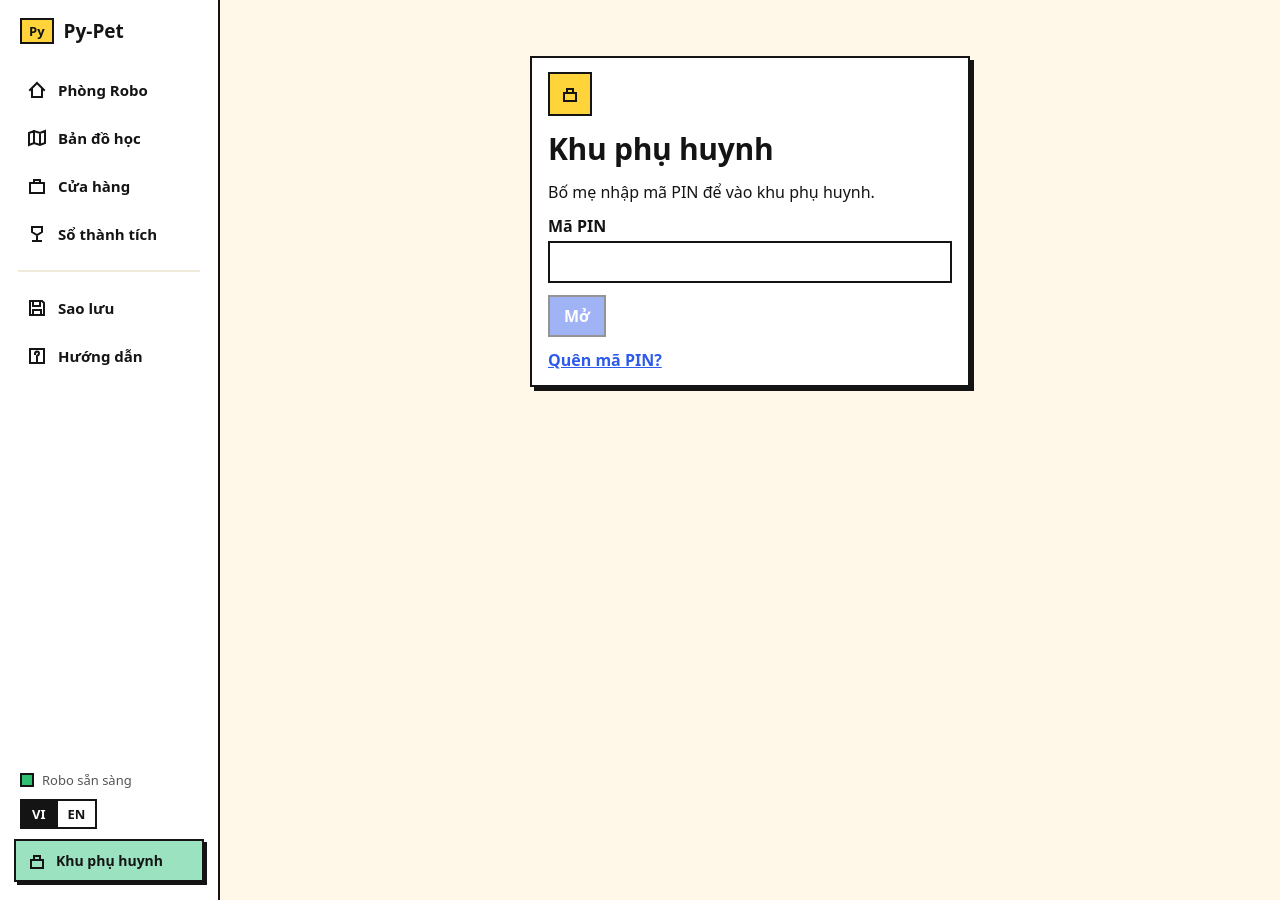
Test: ParentScreen gate › a forgotten PIN is reset, and the area then shows when
Click the button "Quên mã PIN?": (605, 360) [548,349,662,371]
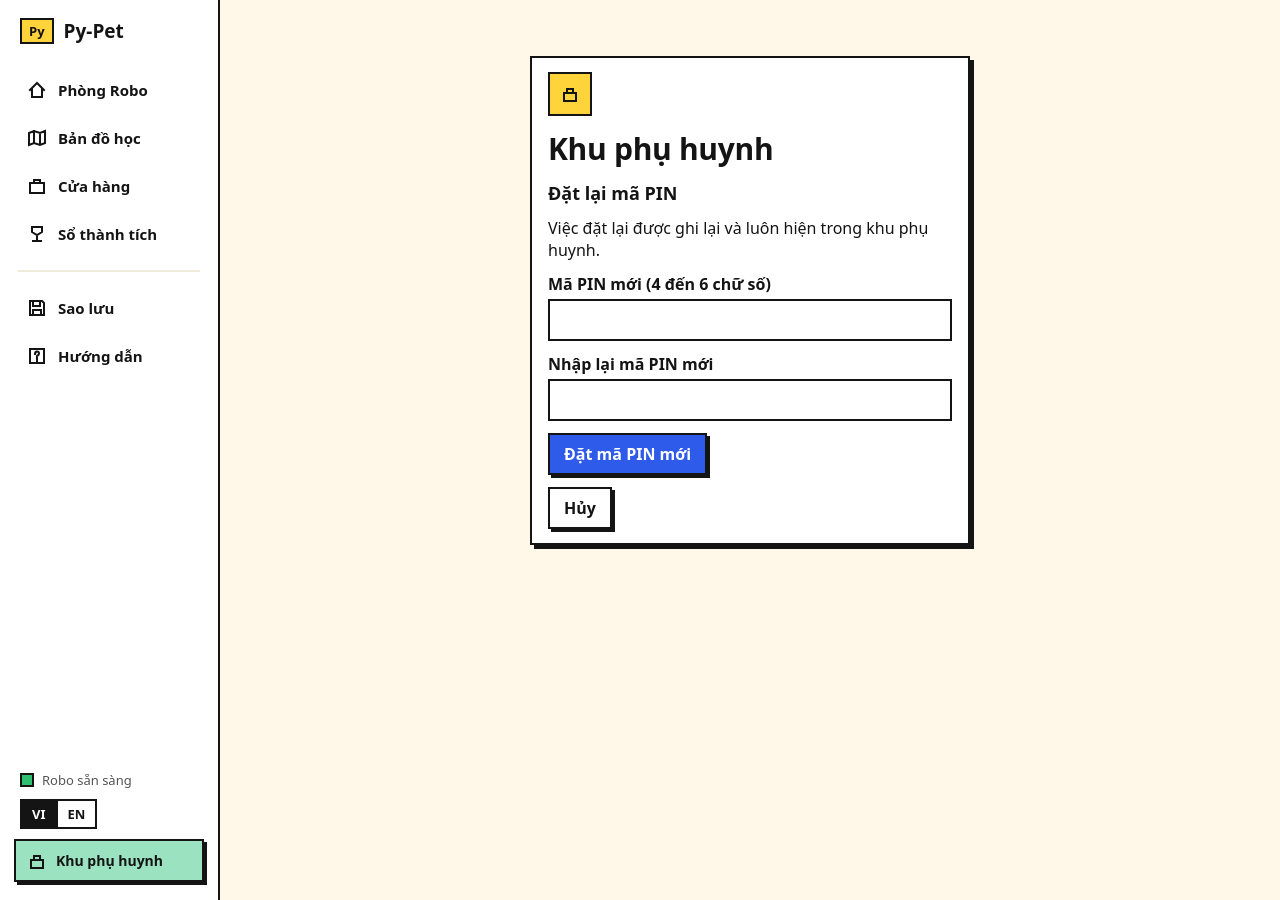
In the password field labelled "Mã PIN mới (4 đến 6 chữ số)": (750, 320) [548,299,952,341], type "12"
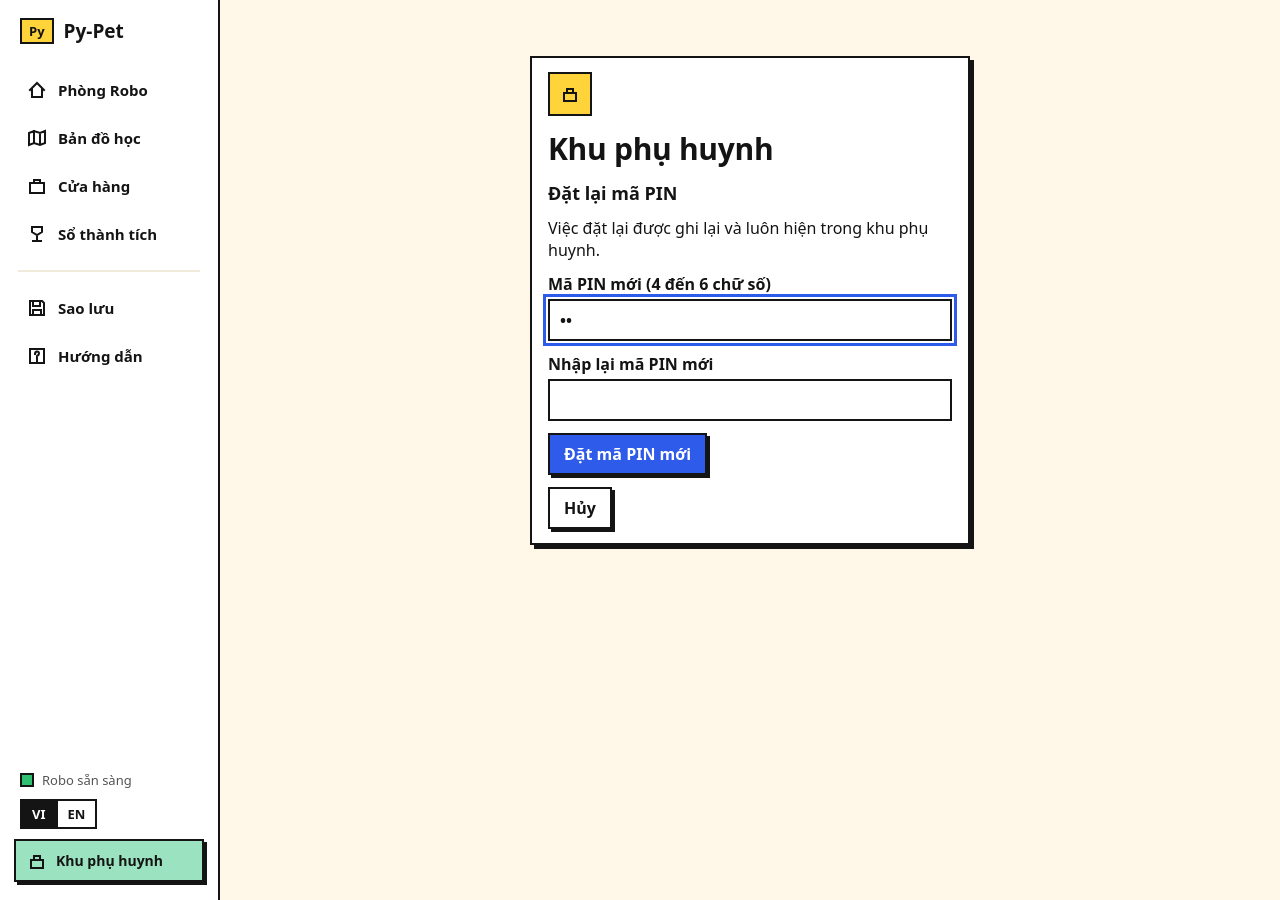
Click the button "Đặt mã PIN mới": (628, 454) [548,433,707,475]
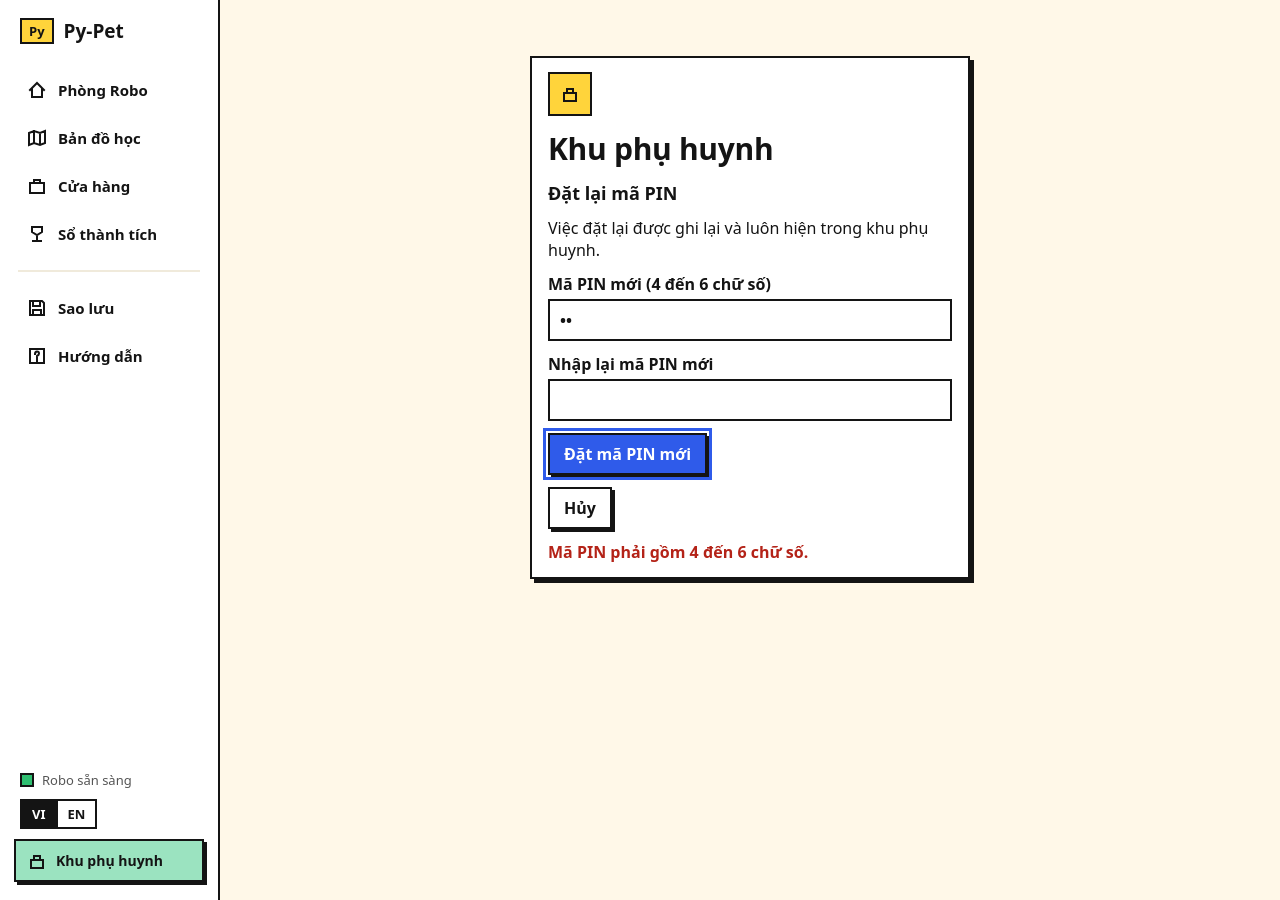
Result: the message reads "Mã PIN phải gồm 4 đến 6 chữ số." at [548,541,808,563]
In the password field labelled "Mã PIN mới (4 đến 6 chữ số)": (750, 320) [548,299,952,341], type "34"
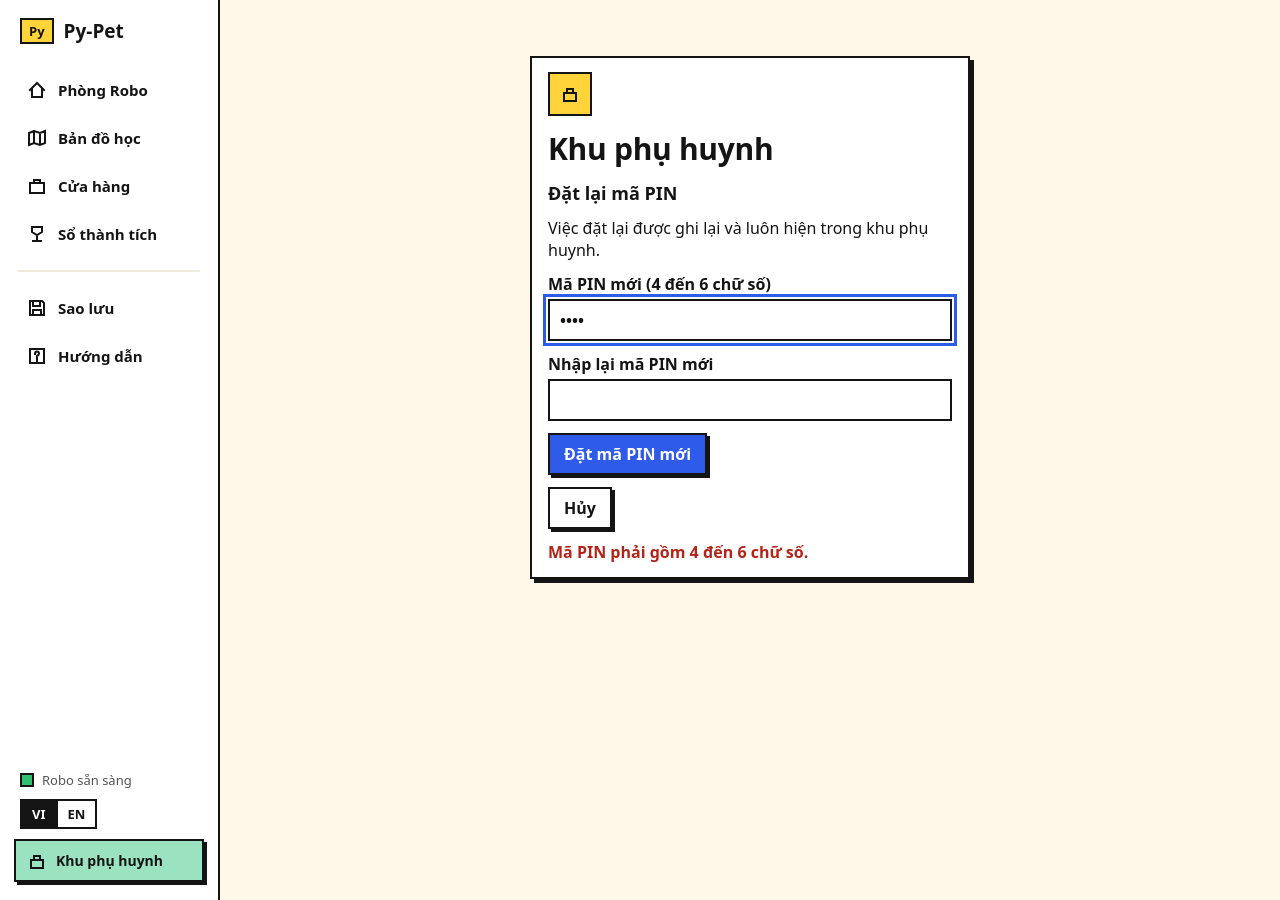
In the password field labelled "Nhập lại mã PIN mới": (750, 400) [548,379,952,421], type "1234"
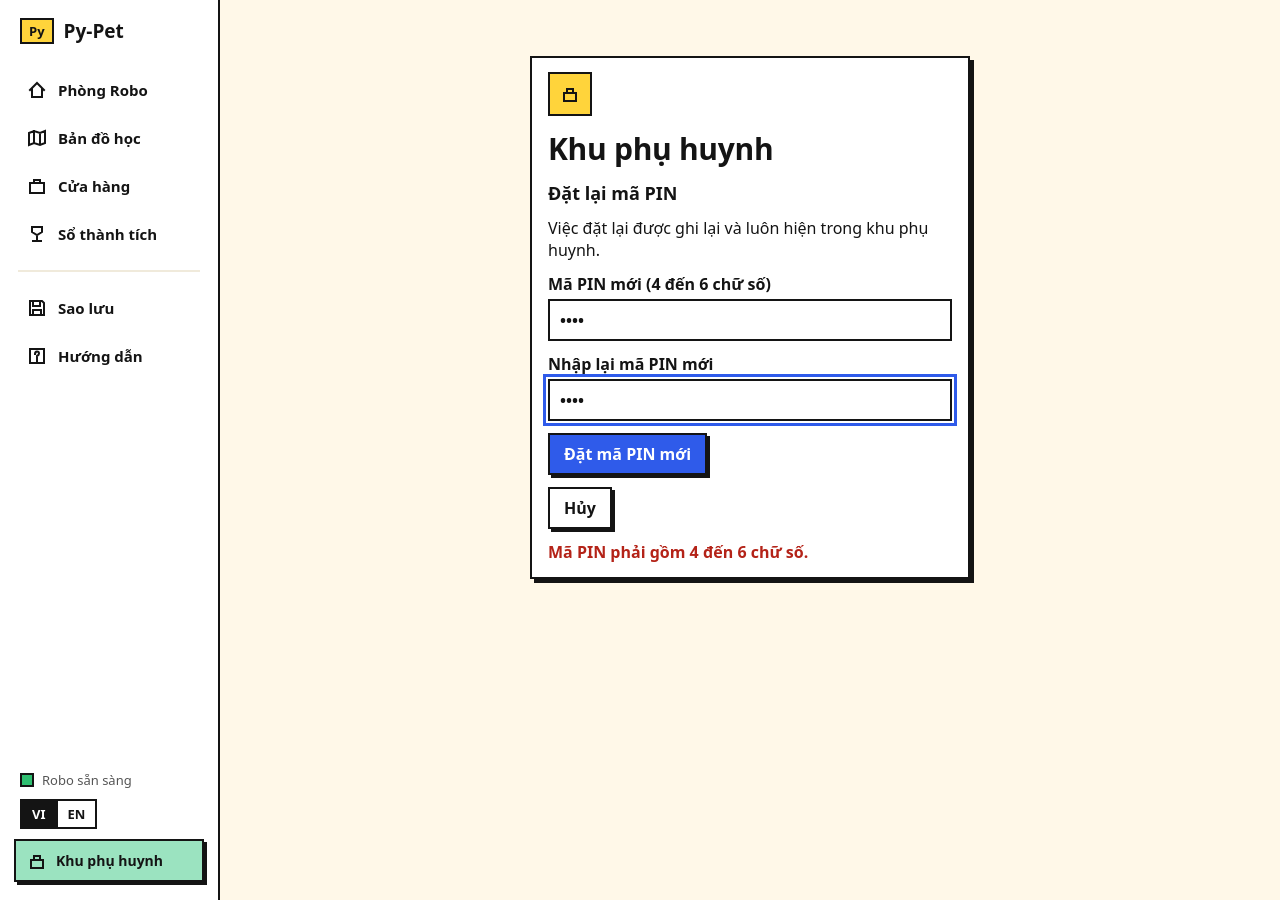
Click the button "Đặt mã PIN mới": (628, 454) [548,433,707,475]
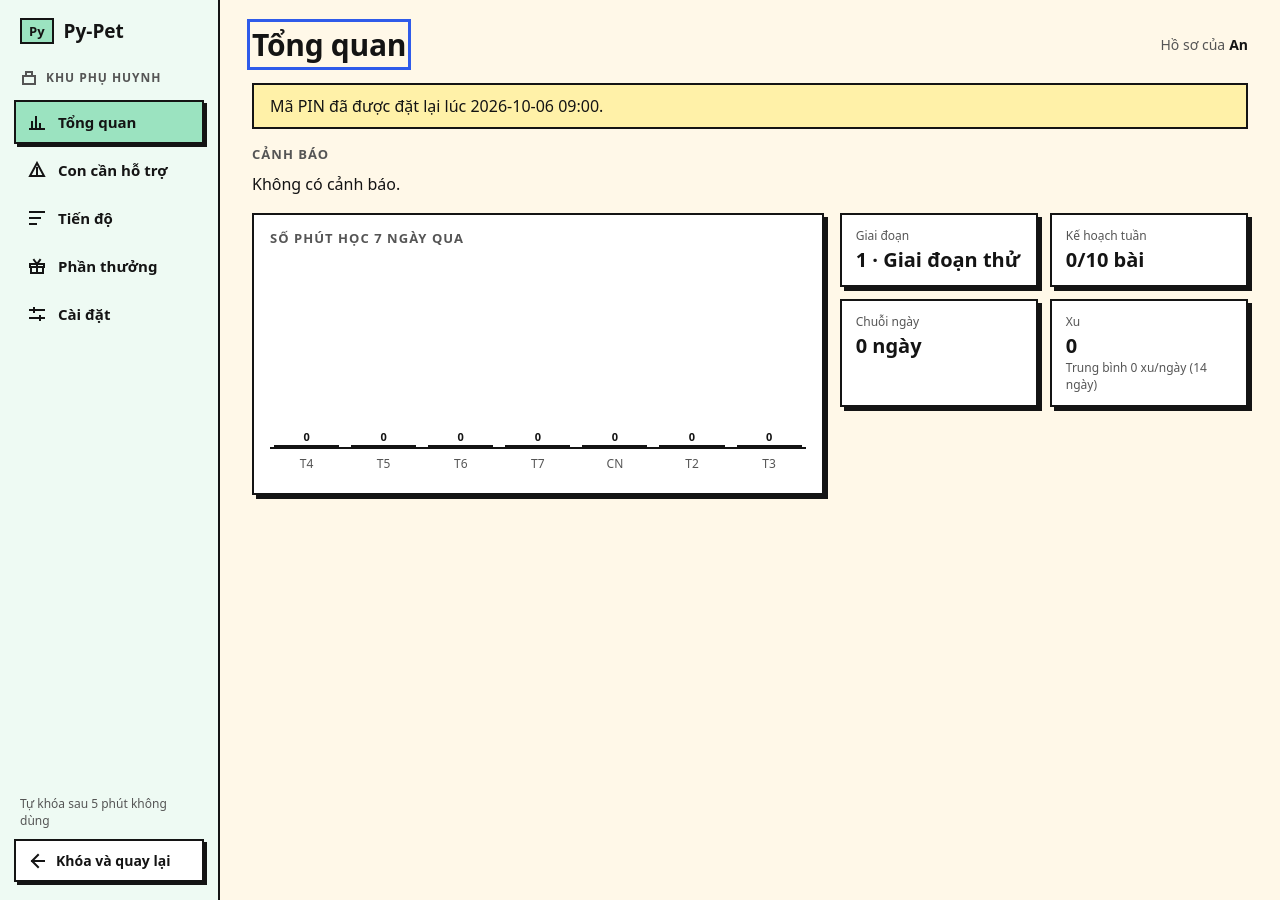
Result: the text "Mã PIN đã được đặt lại lúc 2026-10-06 09:00." is shown at [252,83,1248,129]
